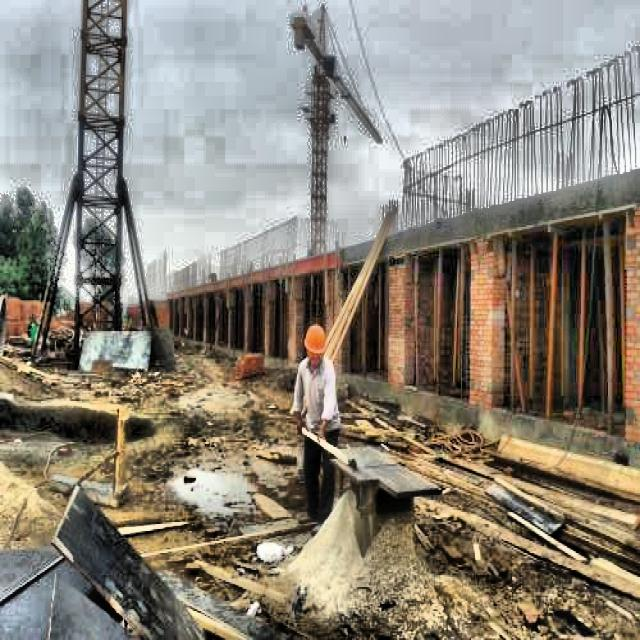helmet: (301, 323, 326, 372)
